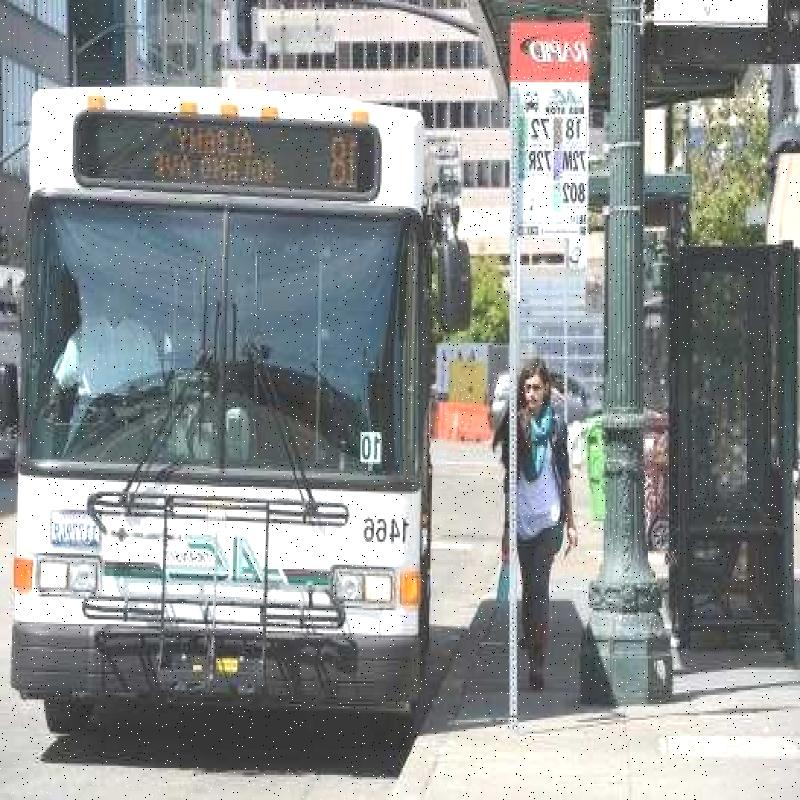bus: (0, 77, 440, 757)
